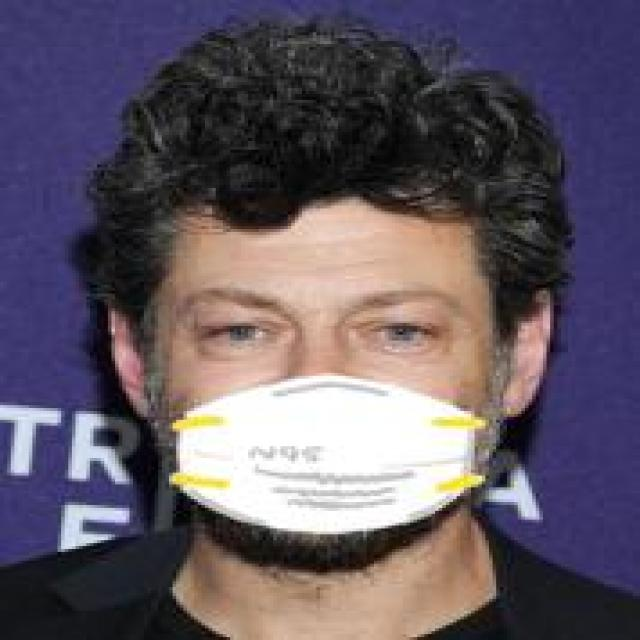mask: (111, 100, 518, 549)
